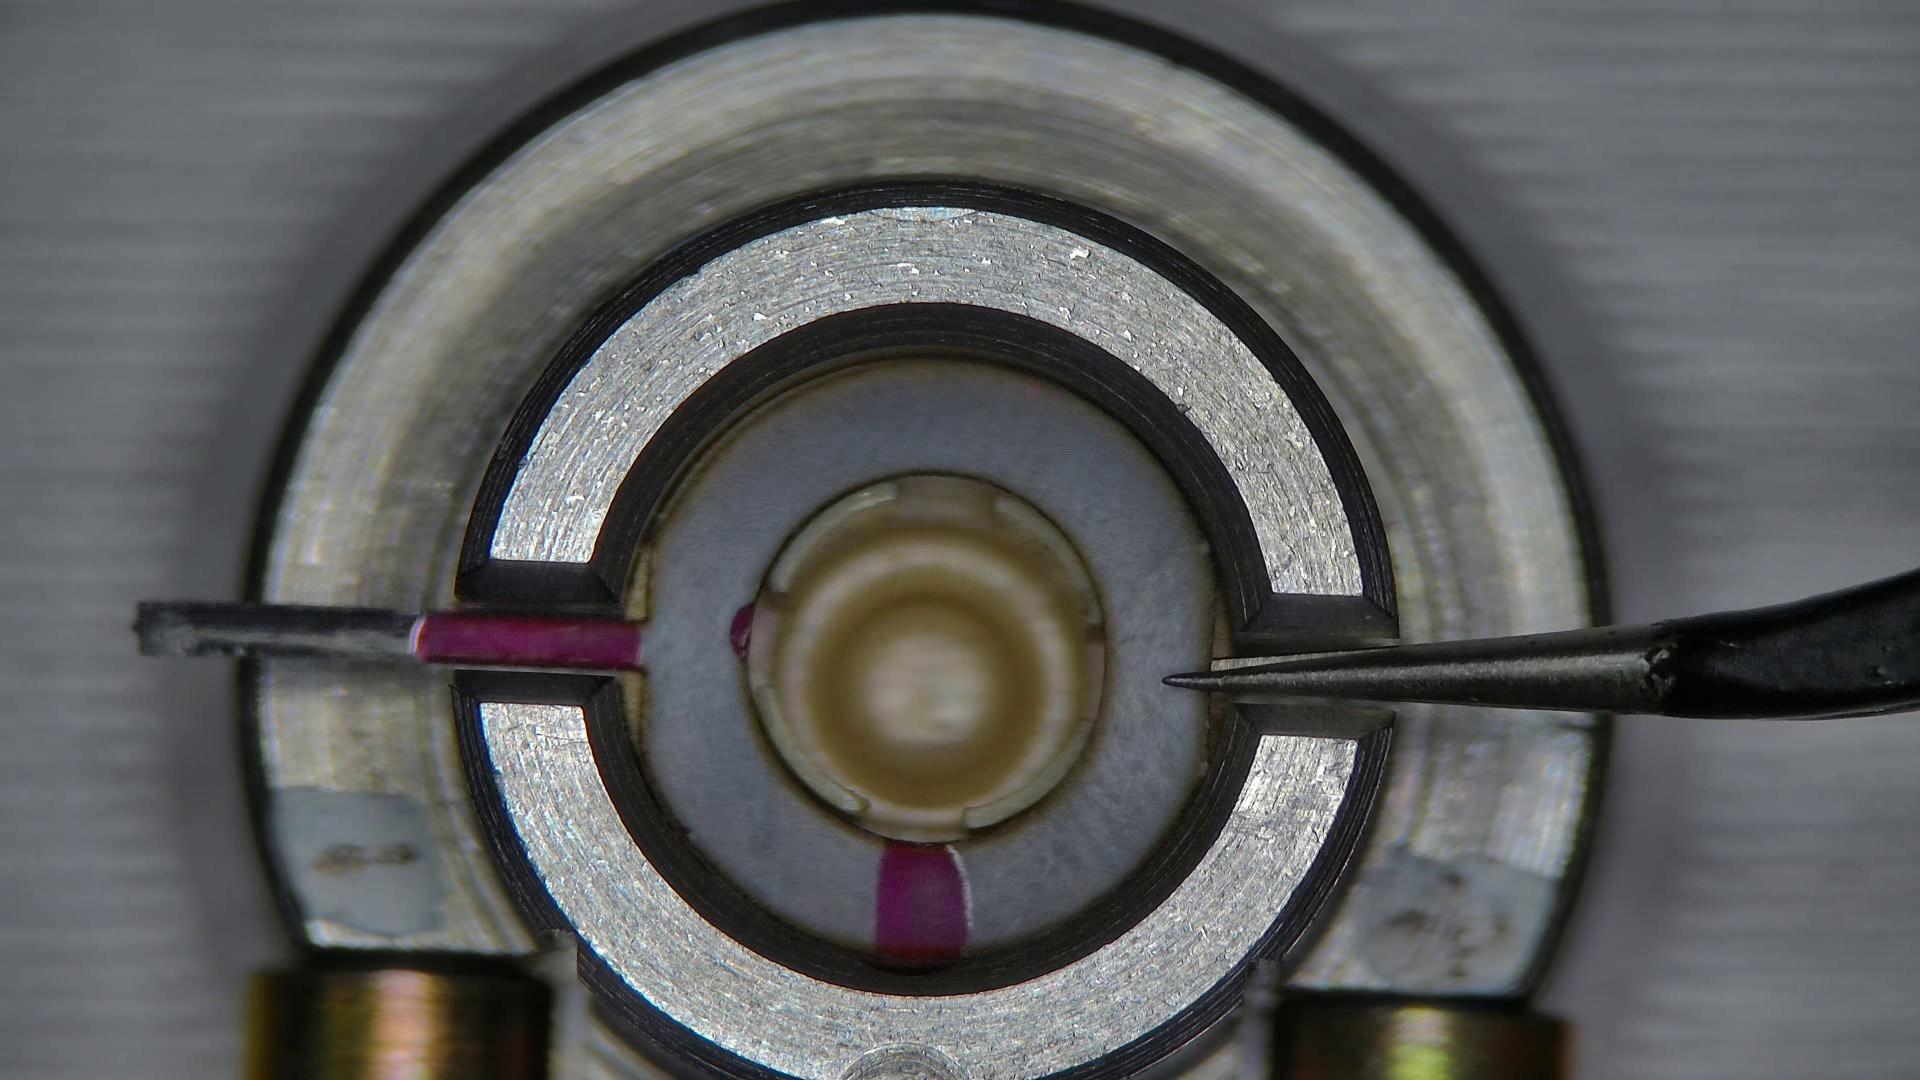YellowOring: (641, 357, 1208, 959)
